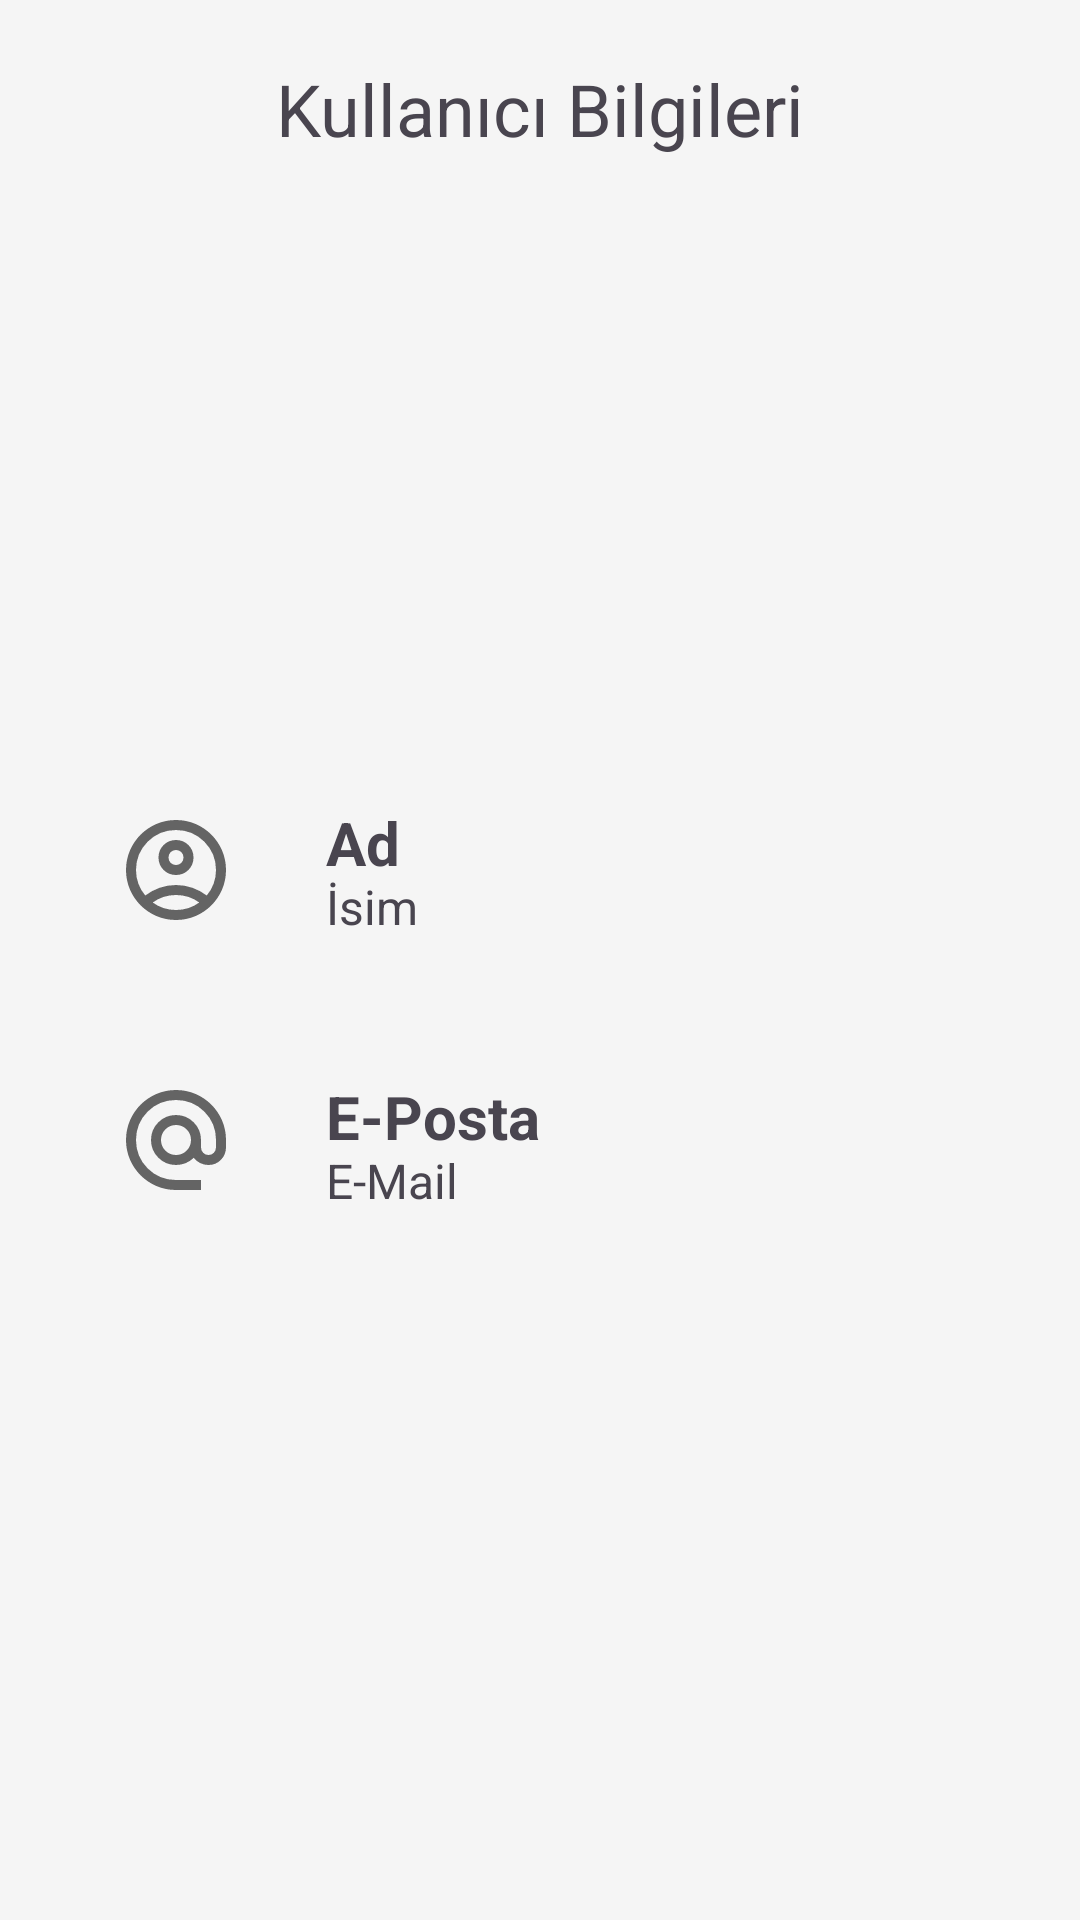

Named icons in this screenshot (1080x1920) and their centers, (x,y):
account circle: (176,870)
